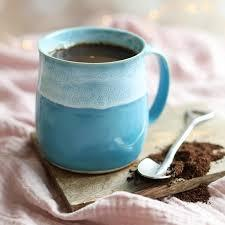Mug: (23, 20, 181, 181)
